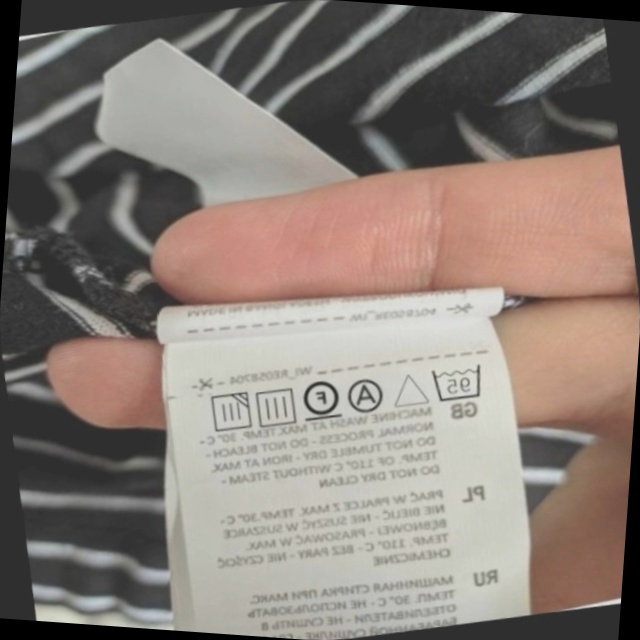95C: (425, 356, 490, 408)
bleach: (388, 364, 432, 414)
drip_dry: (249, 380, 302, 432)
drip_dry_in_shade: (201, 385, 256, 440)
dry_clean: (343, 372, 390, 418)
dry_clean_petrol_only: (296, 371, 345, 426)
